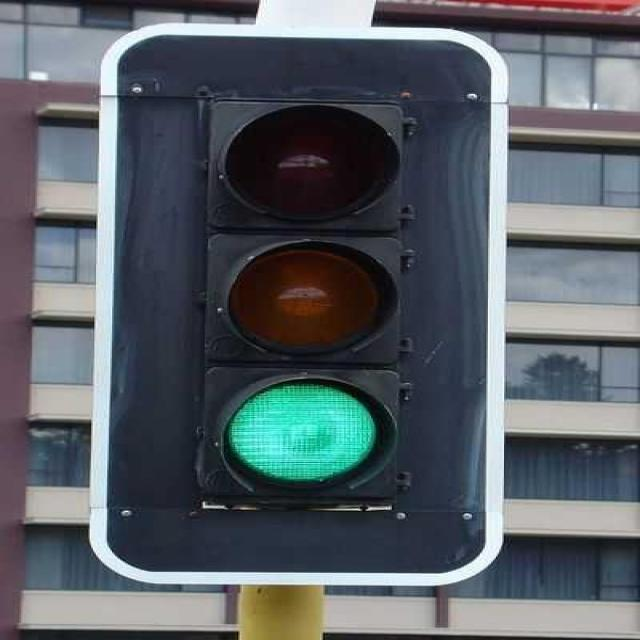Traffic Light -Green-: (180, 84, 418, 521)
